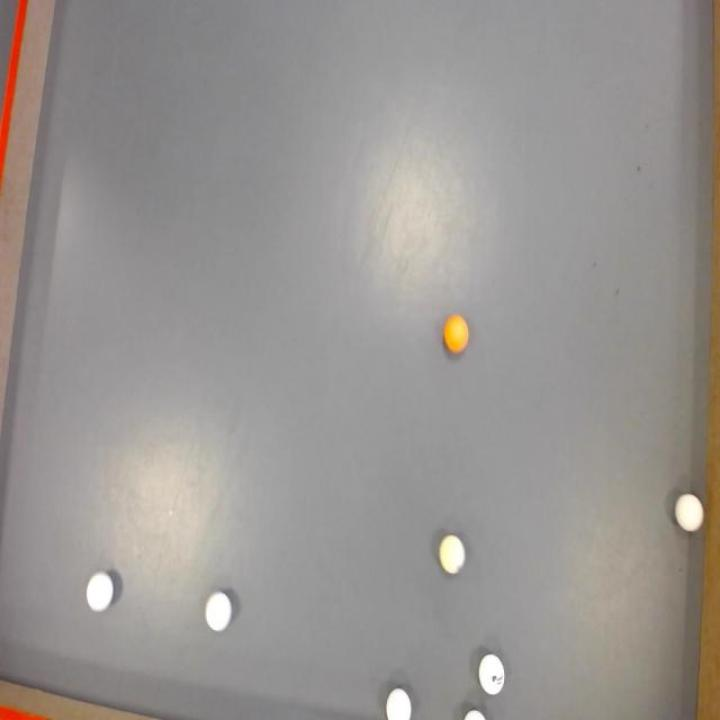orange: (443, 315, 468, 354)
white: (674, 492, 706, 533), (204, 590, 231, 632), (478, 654, 505, 694), (86, 571, 113, 611), (439, 534, 465, 574), (387, 688, 412, 720)
